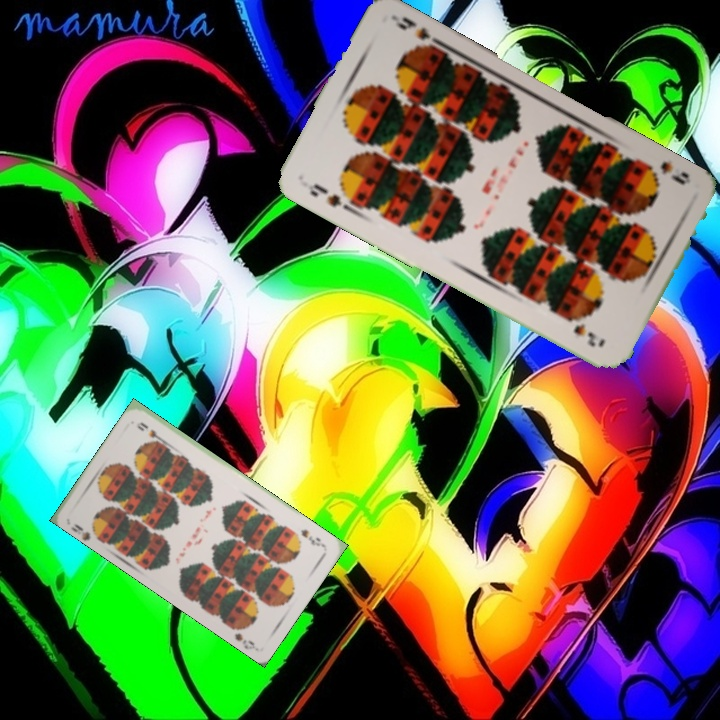S9: (641, 157, 693, 188), (304, 179, 344, 210), (68, 519, 104, 543), (297, 525, 328, 550)
